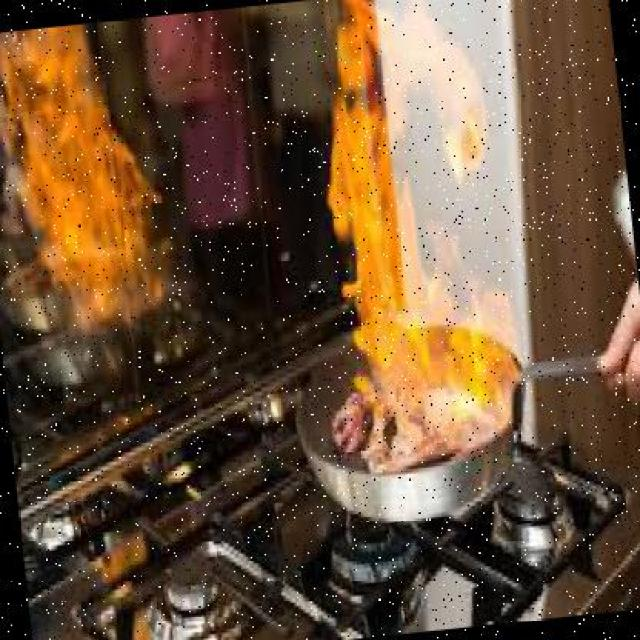fire: (292, 0, 538, 415), (0, 28, 188, 326)
